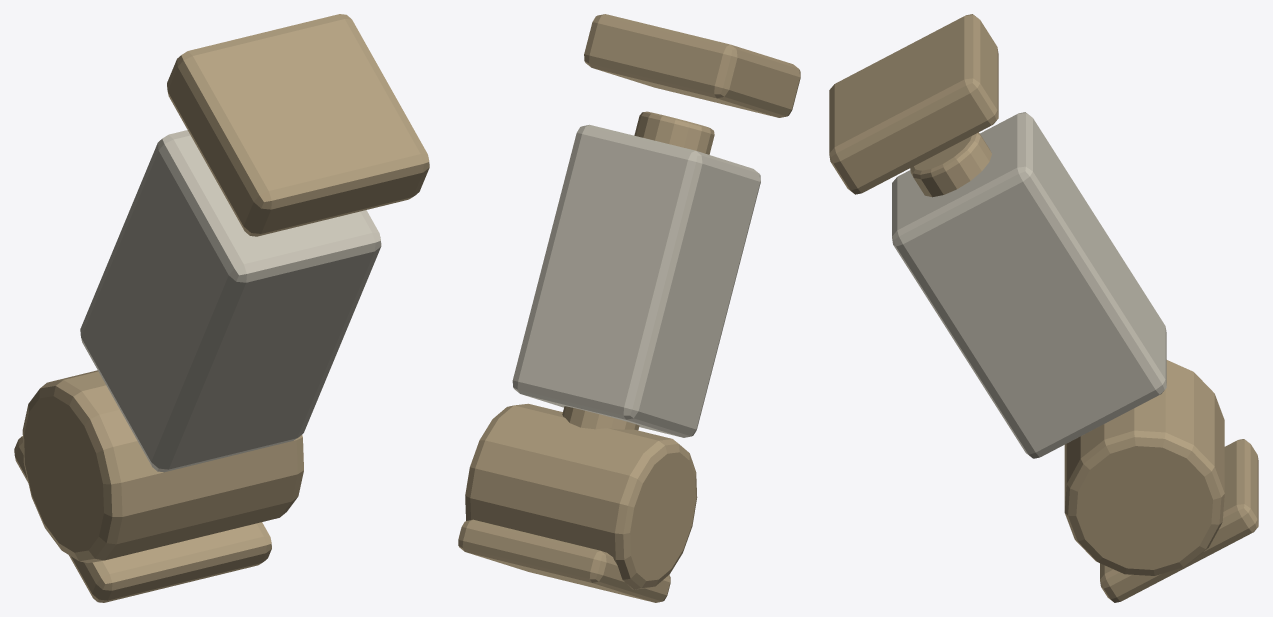
The picture shows the model from 3 angles, left to right: view 1: azimuth 30°, elevation 25°; view 2: azimuth 150°, elevation 25°; view 3: azimuth 270°, elevation 25°; orthographic projection. The views are drawn at different scales.
Visible parts, largest first — view 1: Link_M_Stick.003, PART_Link_M.003; view 2: Link_M_Stick.003, PART_Link_M.003; view 3: Link_M_Stick.003, PART_Link_M.003.
Boxes of the visible parts, <box> form: Link_M_Stick.003: <box>80,14,429,472</box>; PART_Link_M.003: <box>14,370,303,602</box>; Link_M_Stick.003: <box>512,14,800,437</box>; PART_Link_M.003: <box>458,403,697,602</box>; Link_M_Stick.003: <box>829,14,1166,458</box>; PART_Link_M.003: <box>1064,360,1258,602</box>.
Size of the model in its own units: 0.34 by 1 by 0.7446.
